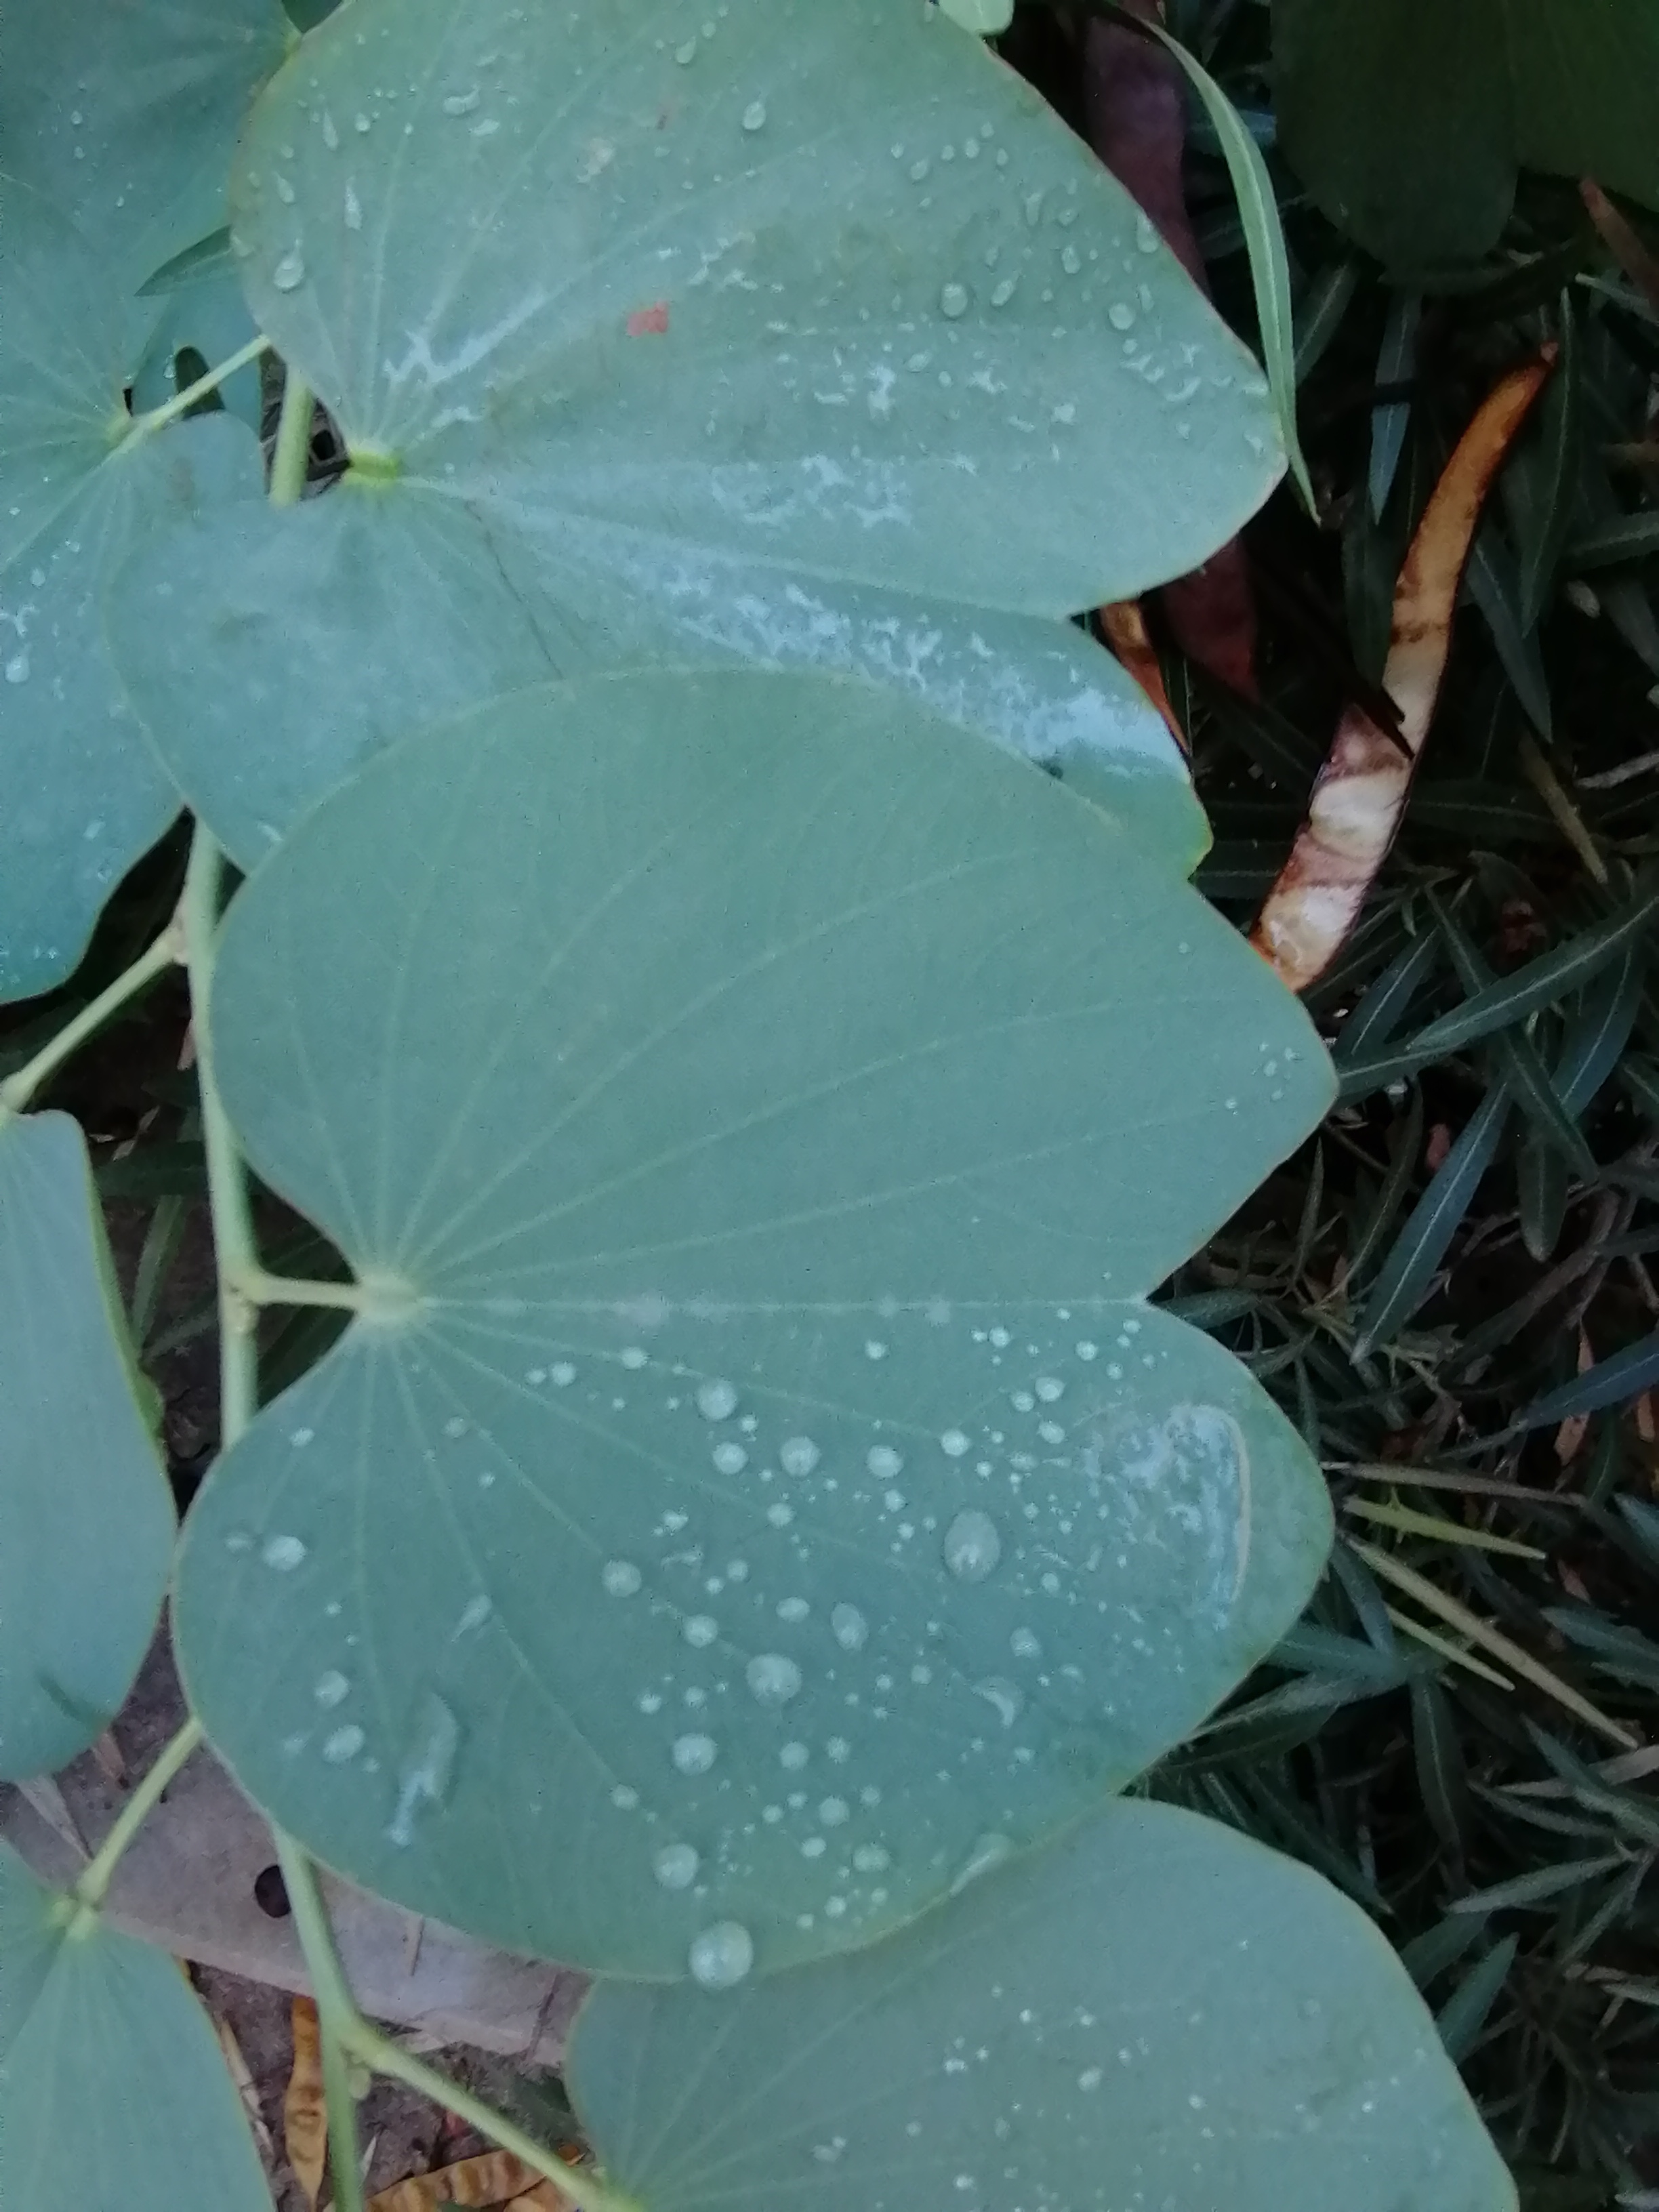healthy: (113, 742, 1295, 1933), (120, 3, 1206, 840)
